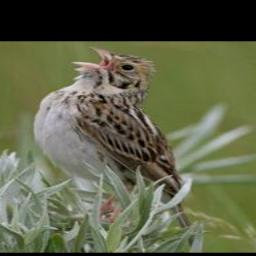Sparrow: (32, 46, 196, 246)
